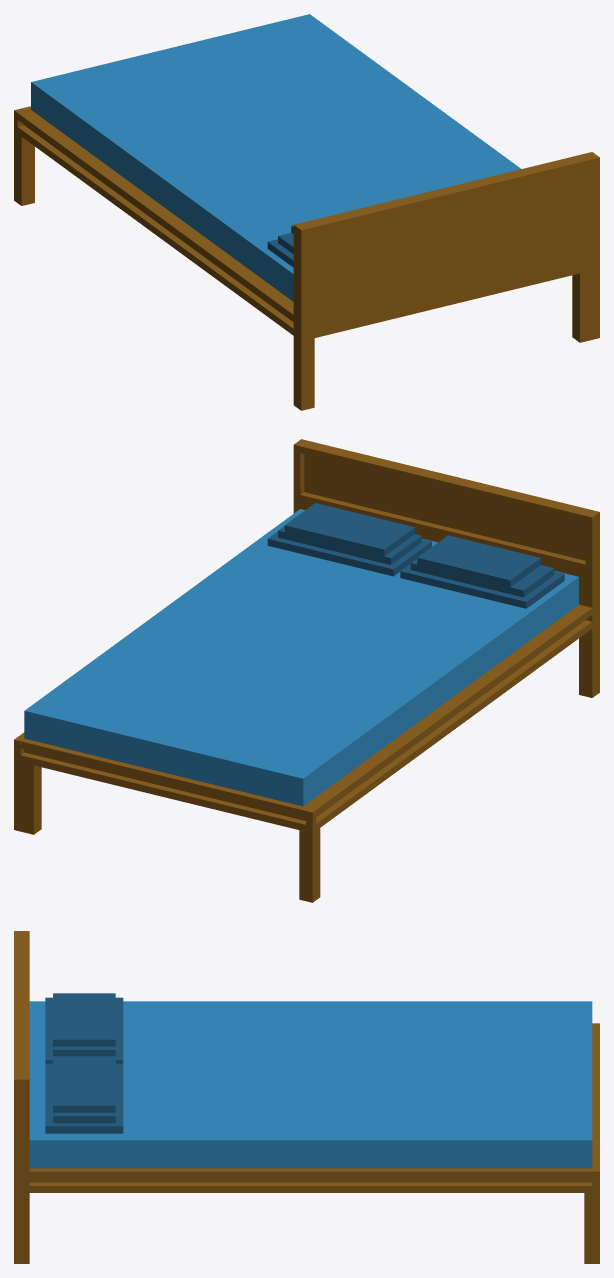
The model's file is Bed-0-Bed.obj.
The picture shows the model from 3 angles, top to bottom: view 1: azimuth 30°, elevation 25°; view 2: azimuth 150°, elevation 25°; view 3: azimuth 270°, elevation 25°; orthographic projection.
Parts seen in each view (by area): view 1: Bed; view 2: Bed; view 3: Bed.
Part boxes in pixels (x1,y1,x2,y2): Bed: [14, 14, 599, 410]; Bed: [14, 439, 599, 902]; Bed: [14, 931, 599, 1263].
Size of the model in its own units: 4.5 by 2.6 by 7.5.
1 material, 1 textured.
